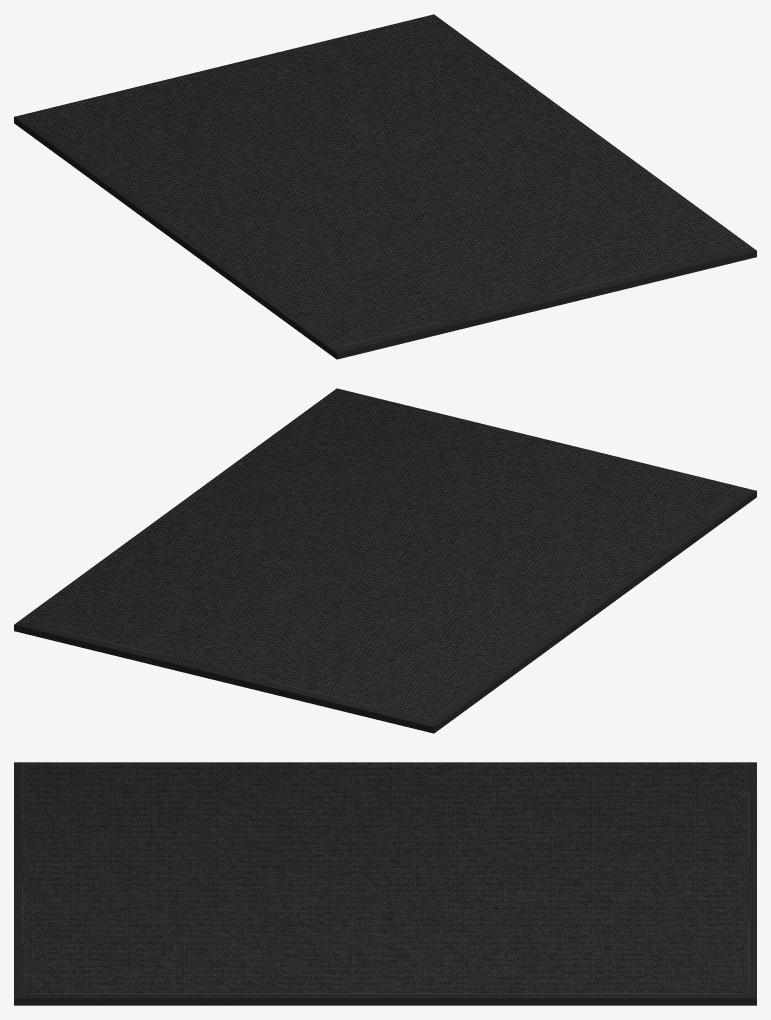
File: SM_FloorMat.fbx
3 renders of one model, top to bottom at view 1: azimuth 30°, elevation 25°; view 2: azimuth 150°, elevation 25°; view 3: azimuth 270°, elevation 25°, orthographic. The views are drawn at different scales.
Visible parts, largest first — view 1: SM_FloorMat; view 2: SM_FloorMat; view 3: SM_FloorMat.
Part boxes in pixels (x1,y1,x2,y2): SM_FloorMat: (14,14,756,359); SM_FloorMat: (14,388,756,733); SM_FloorMat: (14,762,756,1005).
Bounding box in the file's own units: 150 × 3.18 × 199.
1 material, 1 textured.
